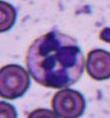N: (25, 30, 84, 88)
